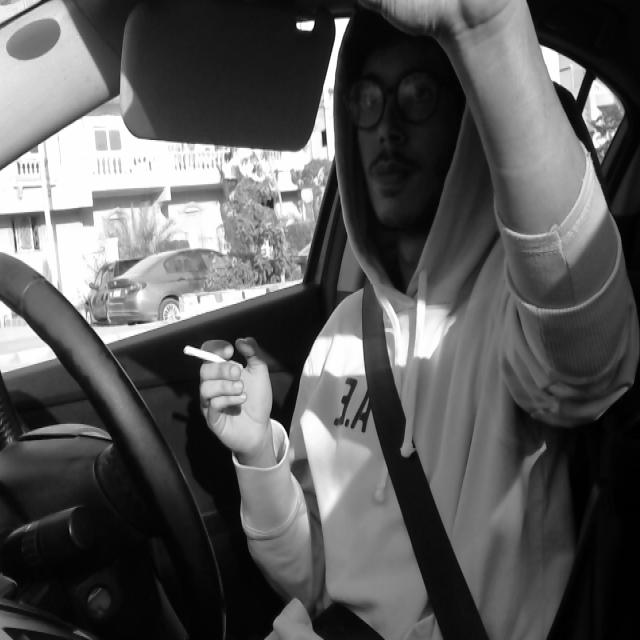smoking: (175, 338, 250, 383)
